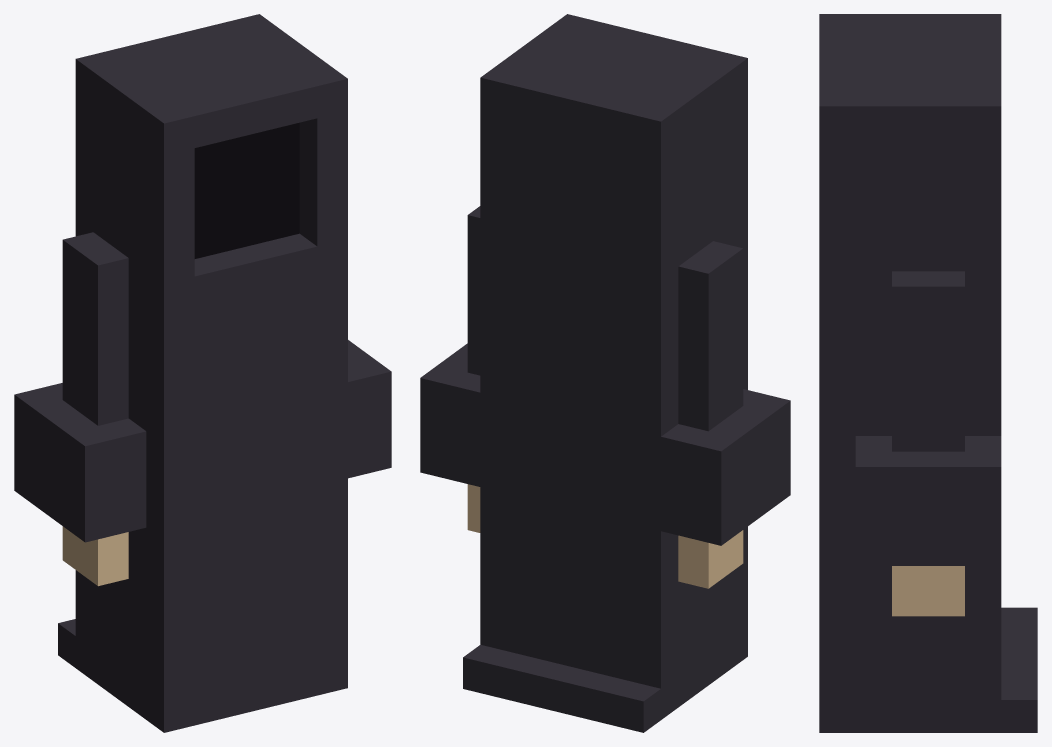
Rendered from Dark Lord.fbx.
3 views of the same model, side by side, from view 1: azimuth 30°, elevation 25°; view 2: azimuth 150°, elevation 25°; view 3: azimuth 270°, elevation 25° (orthographic). The views are drawn at different scales.
Visible parts, largest first — view 1: Dark_Lord; view 2: Dark_Lord; view 3: Dark_Lord.
Boxes of the visible parts, x1,y1,x2,y2 form: Dark_Lord: (14, 14, 391, 732); Dark_Lord: (420, 14, 790, 732); Dark_Lord: (819, 14, 1037, 732).
Size of the model in its own units: 62.5 by 119 by 37.5.
